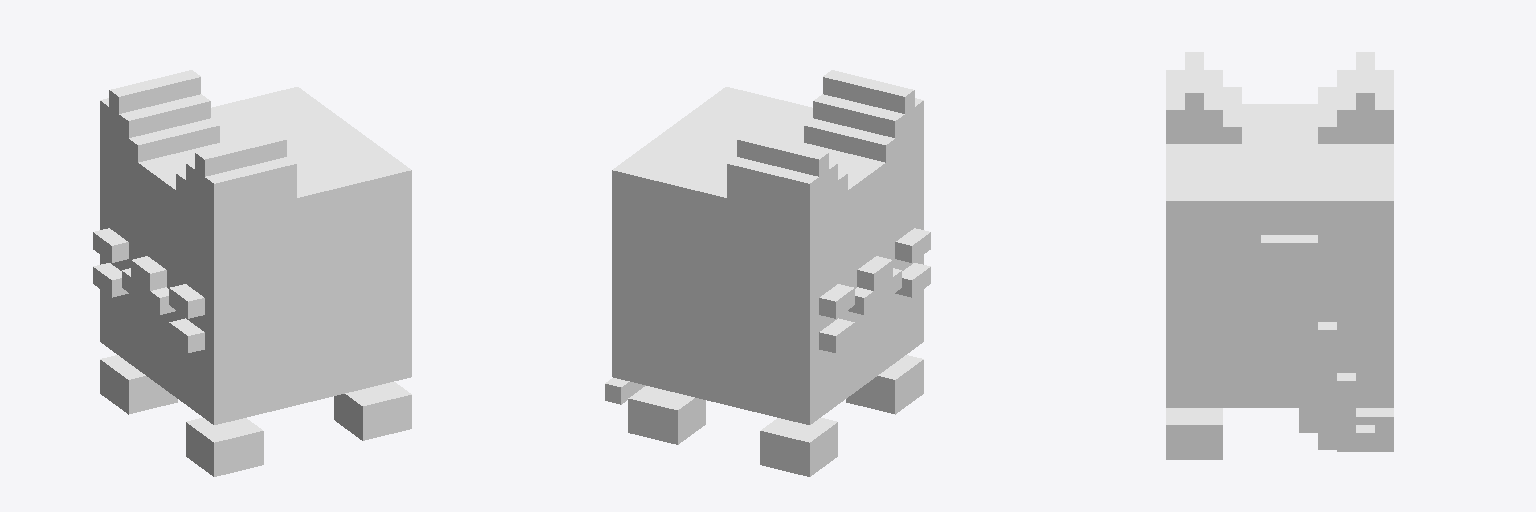
The model's file is cat_sep.obj.
The picture shows the model from 3 angles: view 1: azimuth 30°, elevation 25°; view 2: azimuth 150°, elevation 25°; view 3: azimuth 270°, elevation 25°; orthographic projection.
Visible parts, largest first — view 1: cat_sep; view 2: cat_sep; view 3: cat_sep.
Boxes of the visible parts, x1=… form: cat_sep: x1=93, y1=70, x2=411, y2=476; cat_sep: x1=605, y1=70, x2=930, y2=476; cat_sep: x1=1166, y1=52, x2=1393, y2=459.
Bounding box in the file's own units: 14 × 18 × 12.